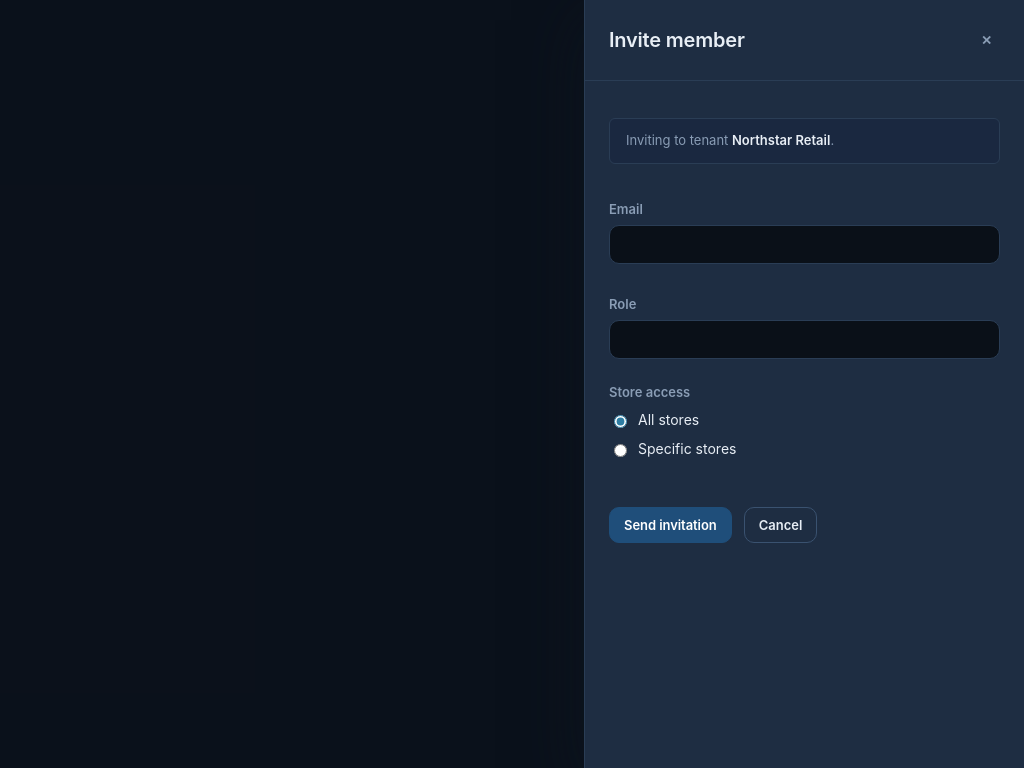
InviteMember outcomes › 409 idempotency_key_conflict -> 'please try again' (terminal for this key)
Type "new@northstar.eg" into the field labelled "Email".
click(804, 244); type("new@northstar.eg")  # box [609, 225, 1000, 264]
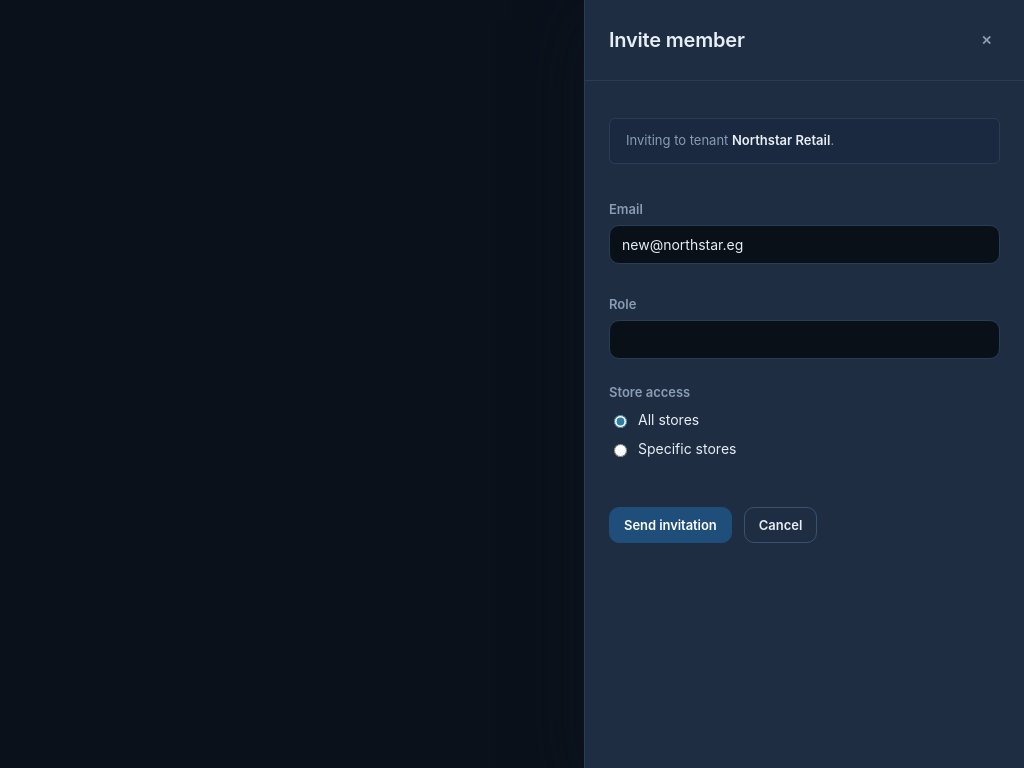
Type "store_staff" into the field labelled "Role".
click(804, 340); type("store_staff")  # box [609, 320, 1000, 359]
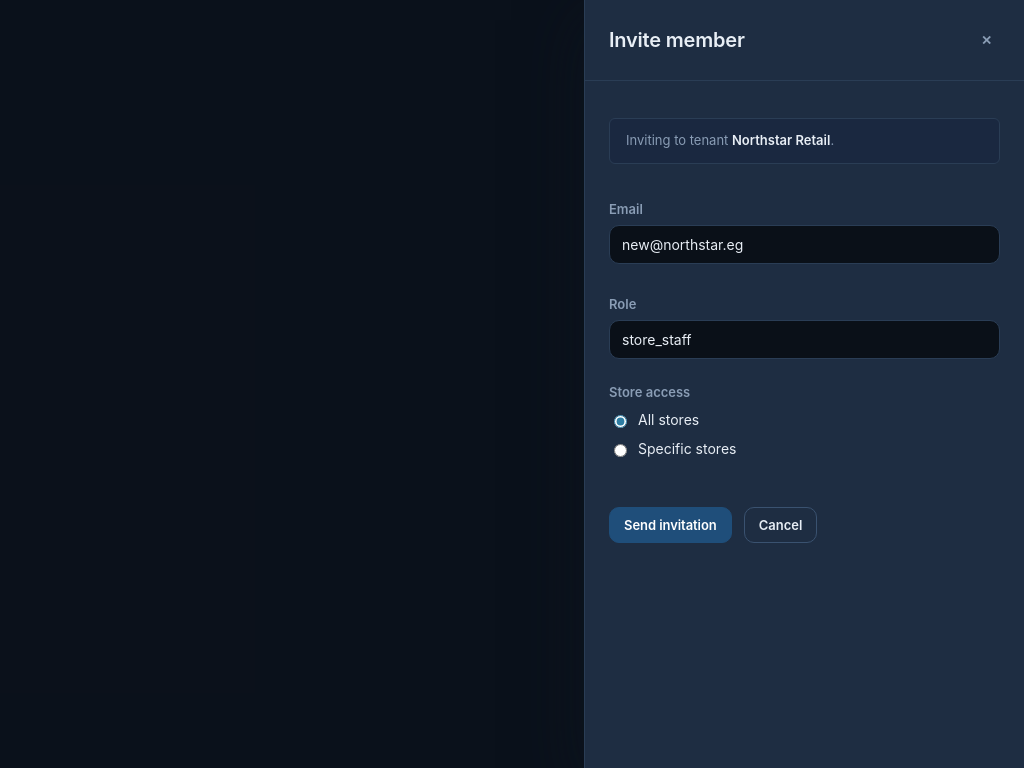
Click the button "Send invitation".
click(670, 525)  # box [609, 507, 732, 543]
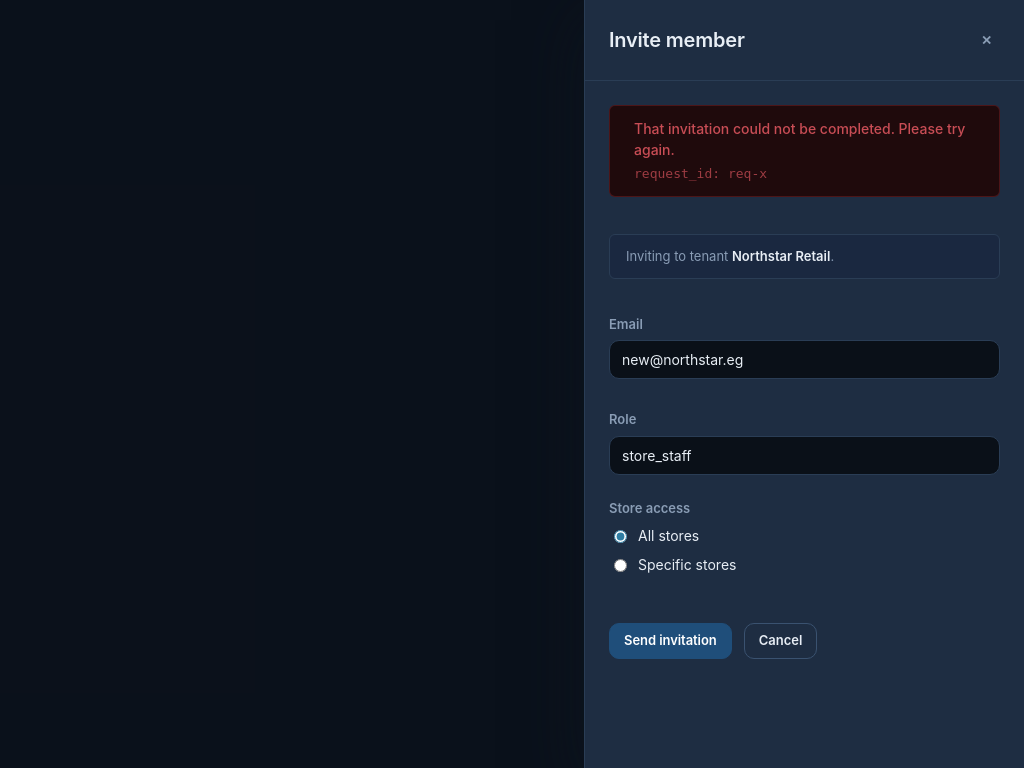
Now the text "That invitation could not be completed. Please try again." is shown, box [634, 118, 975, 160]
